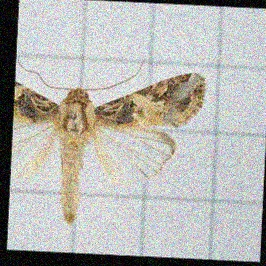Spodoptera litura: (12, 55, 203, 228)
